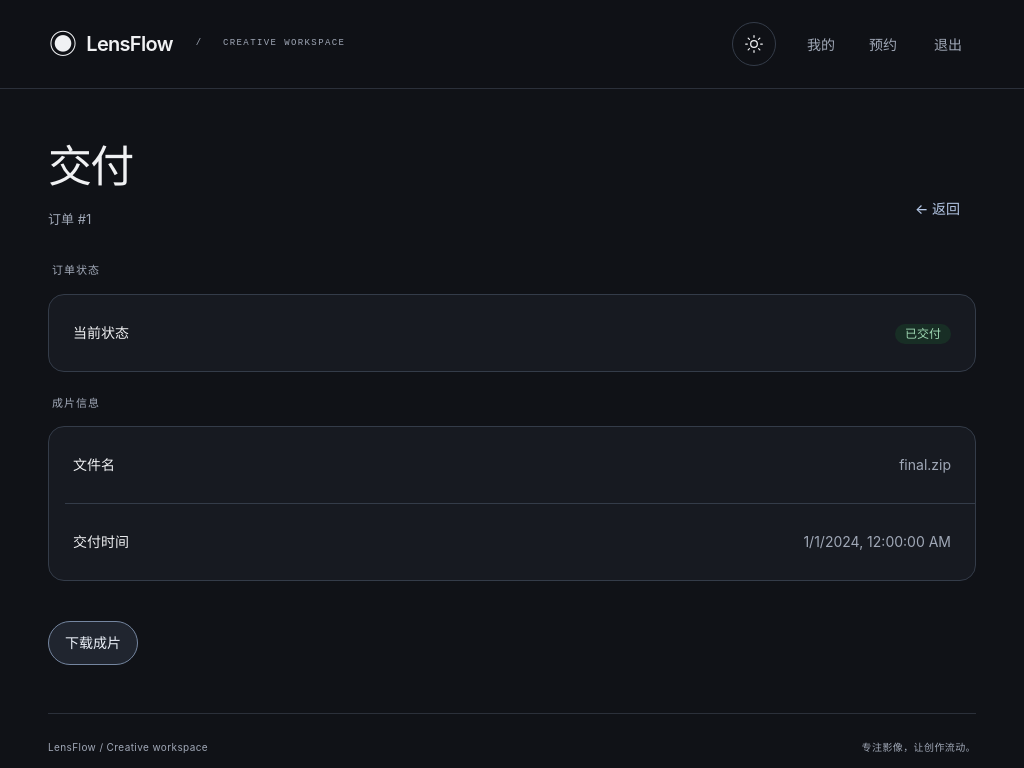
Test: DeliveryPage › announces failed authenticated downloads and allows retry
This screenshot has width=1024, height=768.
Click the button "下载成片". click: (93, 643)
box: x1=48 y1=621 x2=138 y2=665
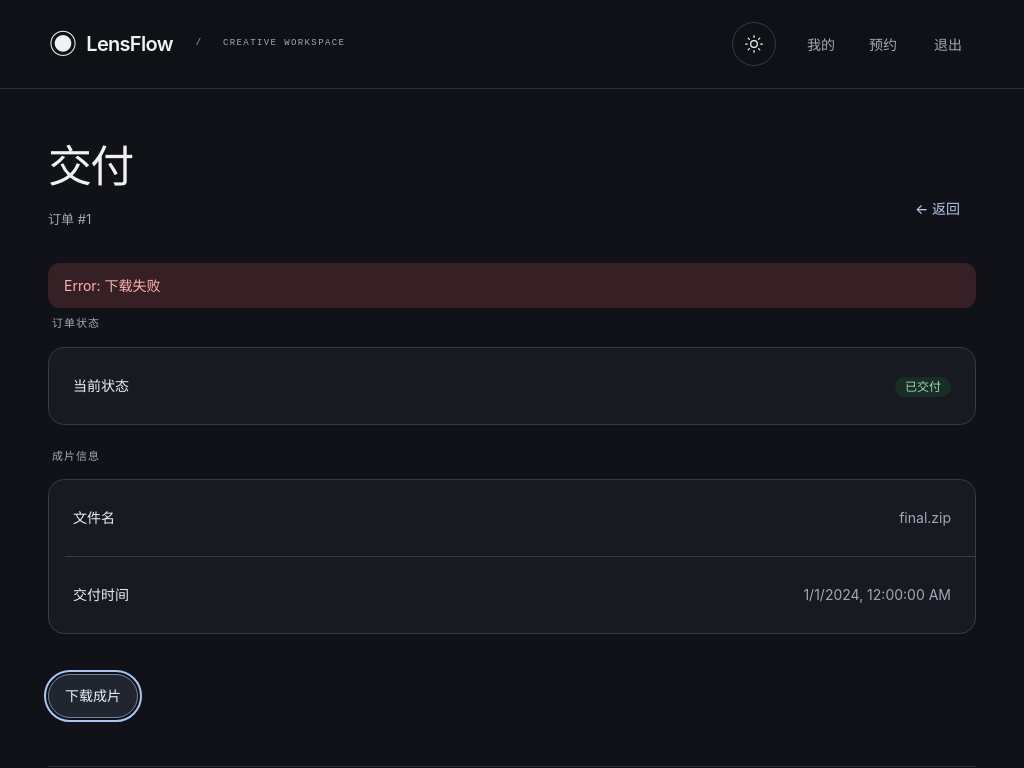
Expected: the button "下载成片" is enabled, x1=48 y1=674 x2=138 y2=718
Now the message shows "下载失败", box x1=64 y1=277 x2=161 y2=294
